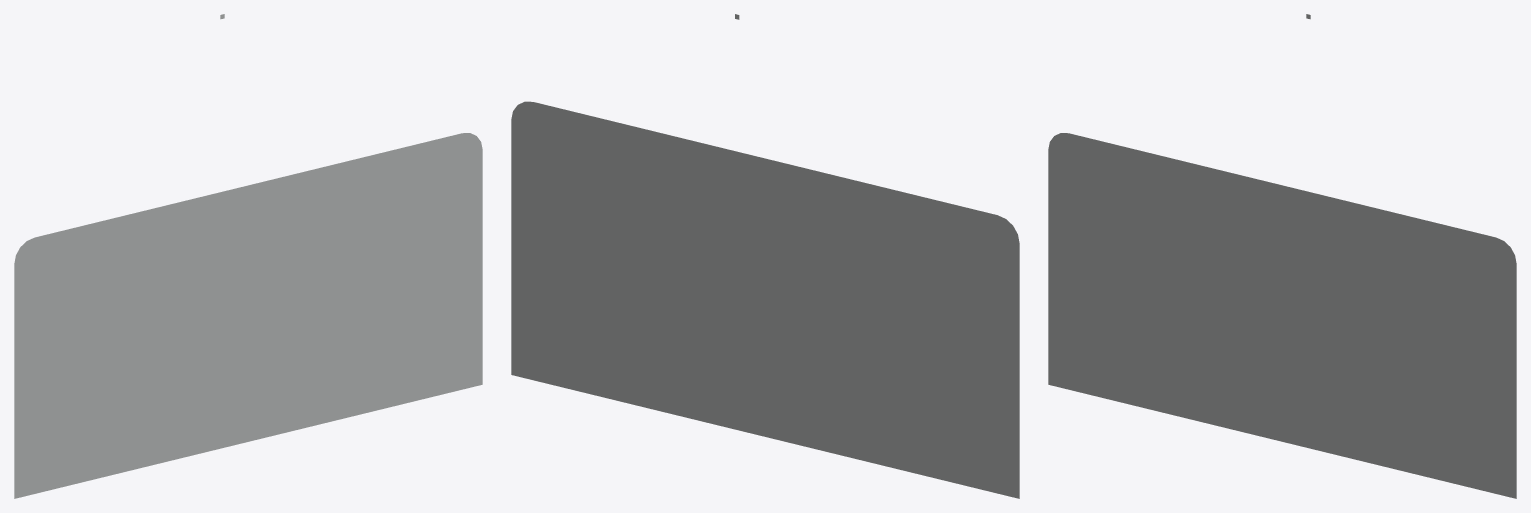
Rendered from MainMeshLaptop_6_1_GeomSubset_2.obj.
3 renders of one model, left to right at view 1: azimuth 30°, elevation 25°; view 2: azimuth 150°, elevation 25°; view 3: azimuth 330°, elevation 25°, orthographic. The views are drawn at different scales.
Visible parts, largest first — view 1: MainMeshLaptop_6_1_GeomSubset_2; view 2: MainMeshLaptop_6_1_GeomSubset_2; view 3: MainMeshLaptop_6_1_GeomSubset_2.
Part boxes in pixels (x1,y1,x2,y2): MainMeshLaptop_6_1_GeomSubset_2: [14, 14, 482, 498]; MainMeshLaptop_6_1_GeomSubset_2: [511, 14, 1019, 498]; MainMeshLaptop_6_1_GeomSubset_2: [1048, 14, 1516, 498].
Size of the model in its own units: 0.1398 by 0.1165 by 0.0135.
